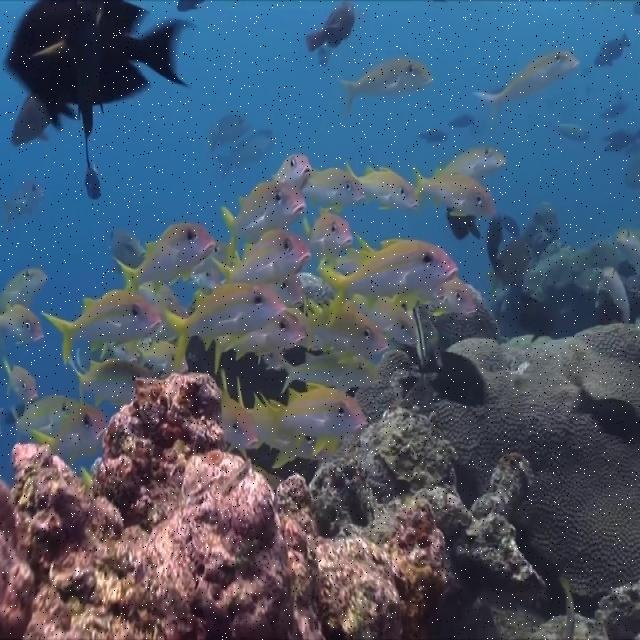fish: (6, 1, 192, 164), (318, 236, 459, 329), (163, 285, 288, 373), (42, 290, 163, 365), (475, 52, 578, 135), (114, 220, 216, 292), (221, 181, 306, 264), (255, 382, 365, 446), (294, 299, 390, 358), (338, 60, 433, 118), (212, 232, 312, 284), (411, 165, 493, 217), (344, 156, 419, 212), (229, 312, 306, 366), (70, 357, 150, 408), (350, 296, 419, 350), (35, 404, 103, 458), (12, 396, 81, 442), (263, 436, 341, 470), (304, 7, 354, 53), (430, 147, 506, 176), (302, 167, 360, 205), (2, 347, 38, 406), (0, 300, 44, 348), (304, 209, 355, 250), (0, 263, 48, 306), (423, 280, 478, 316), (13, 96, 50, 145), (273, 154, 313, 193)
sea-floor: (0, 372, 546, 639)
